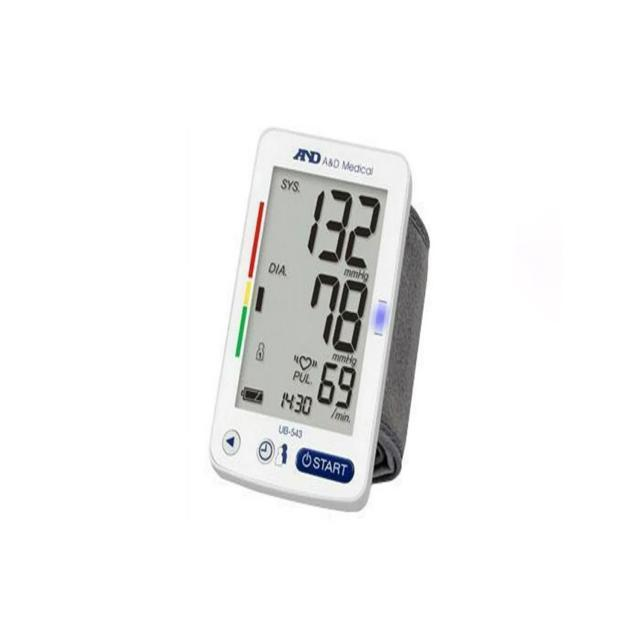dia: (288, 264, 383, 359)
pul: (307, 352, 362, 422)
ssd: (233, 165, 389, 439)
sys: (292, 179, 391, 275)
